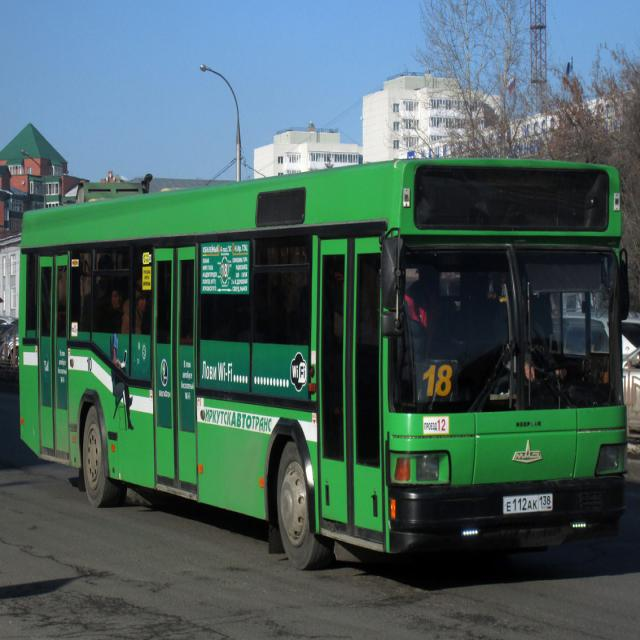number-of-bus: (423, 364, 454, 400)
